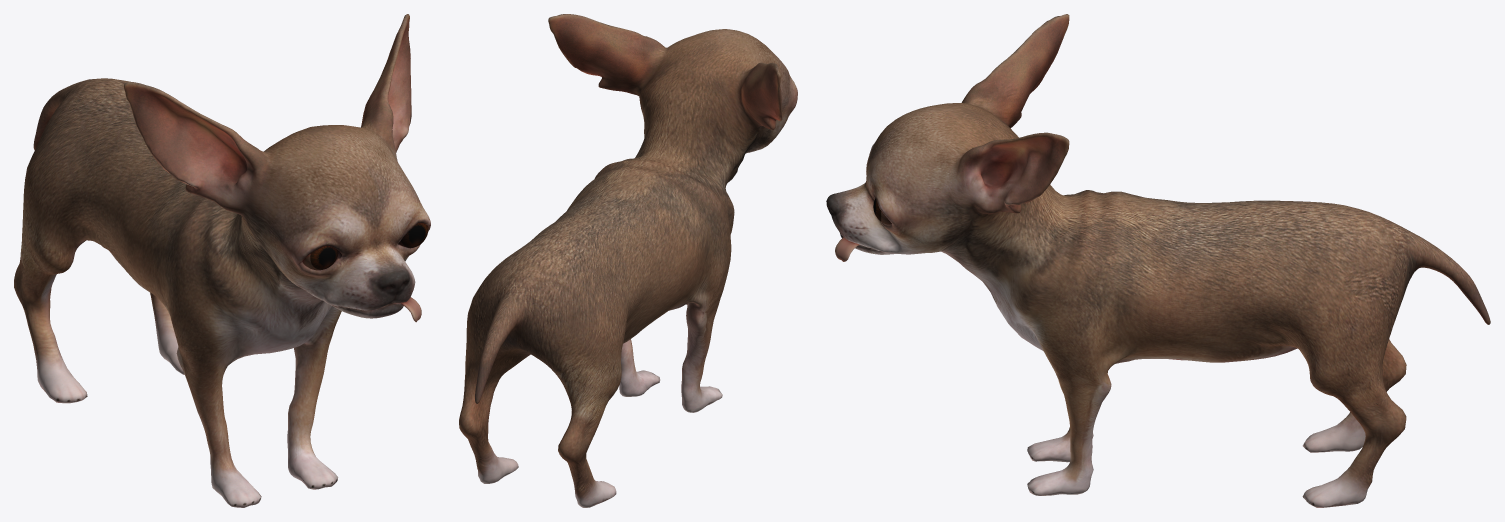
File: chihuahua_derp_dog.glb
3 renders of one model, left to right at view 1: azimuth 30°, elevation 25°; view 2: azimuth 150°, elevation 25°; view 3: azimuth 270°, elevation 25°, orthographic. The views are drawn at different scales.
Parts seen in each view (by area): view 1: Object004j, Object001_Material #40_0; view 2: Object004j; view 3: Object004j.
Boxes of the visible parts, x1=… form: Object004j: x1=14, y1=14, x2=430, y2=507; Object001_Material #40_0: x1=302, y1=223, x2=428, y2=270; Object004j: x1=459, y1=14, x2=797, y2=507; Object004j: x1=826, y1=14, x2=1490, y2=507.
Size of the model in its own units: 0.3335 by 0.4894 by 0.7357.
1 material, 1 textured.
